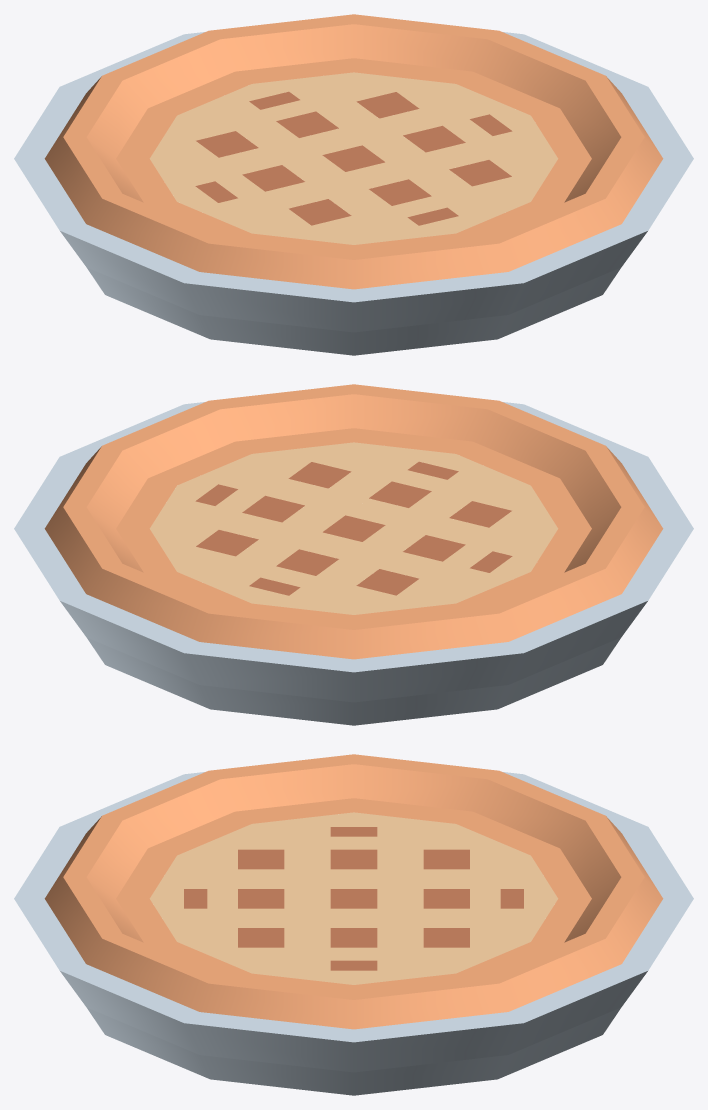
The model's file is pie.glb.
3 views of the same model, one above another, from view 1: azimuth 30°, elevation 25°; view 2: azimuth 150°, elevation 25°; view 3: azimuth 270°, elevation 25° (orthographic).
Visible parts, largest first — view 1: pie; view 2: pie; view 3: pie.
Part boxes in pixels (bbox=[...]): pie: bbox=[14, 14, 693, 355]; pie: bbox=[14, 384, 693, 725]; pie: bbox=[14, 754, 693, 1095].
Size of the model in its own units: 0.9504 by 0.1497 by 0.9504.
